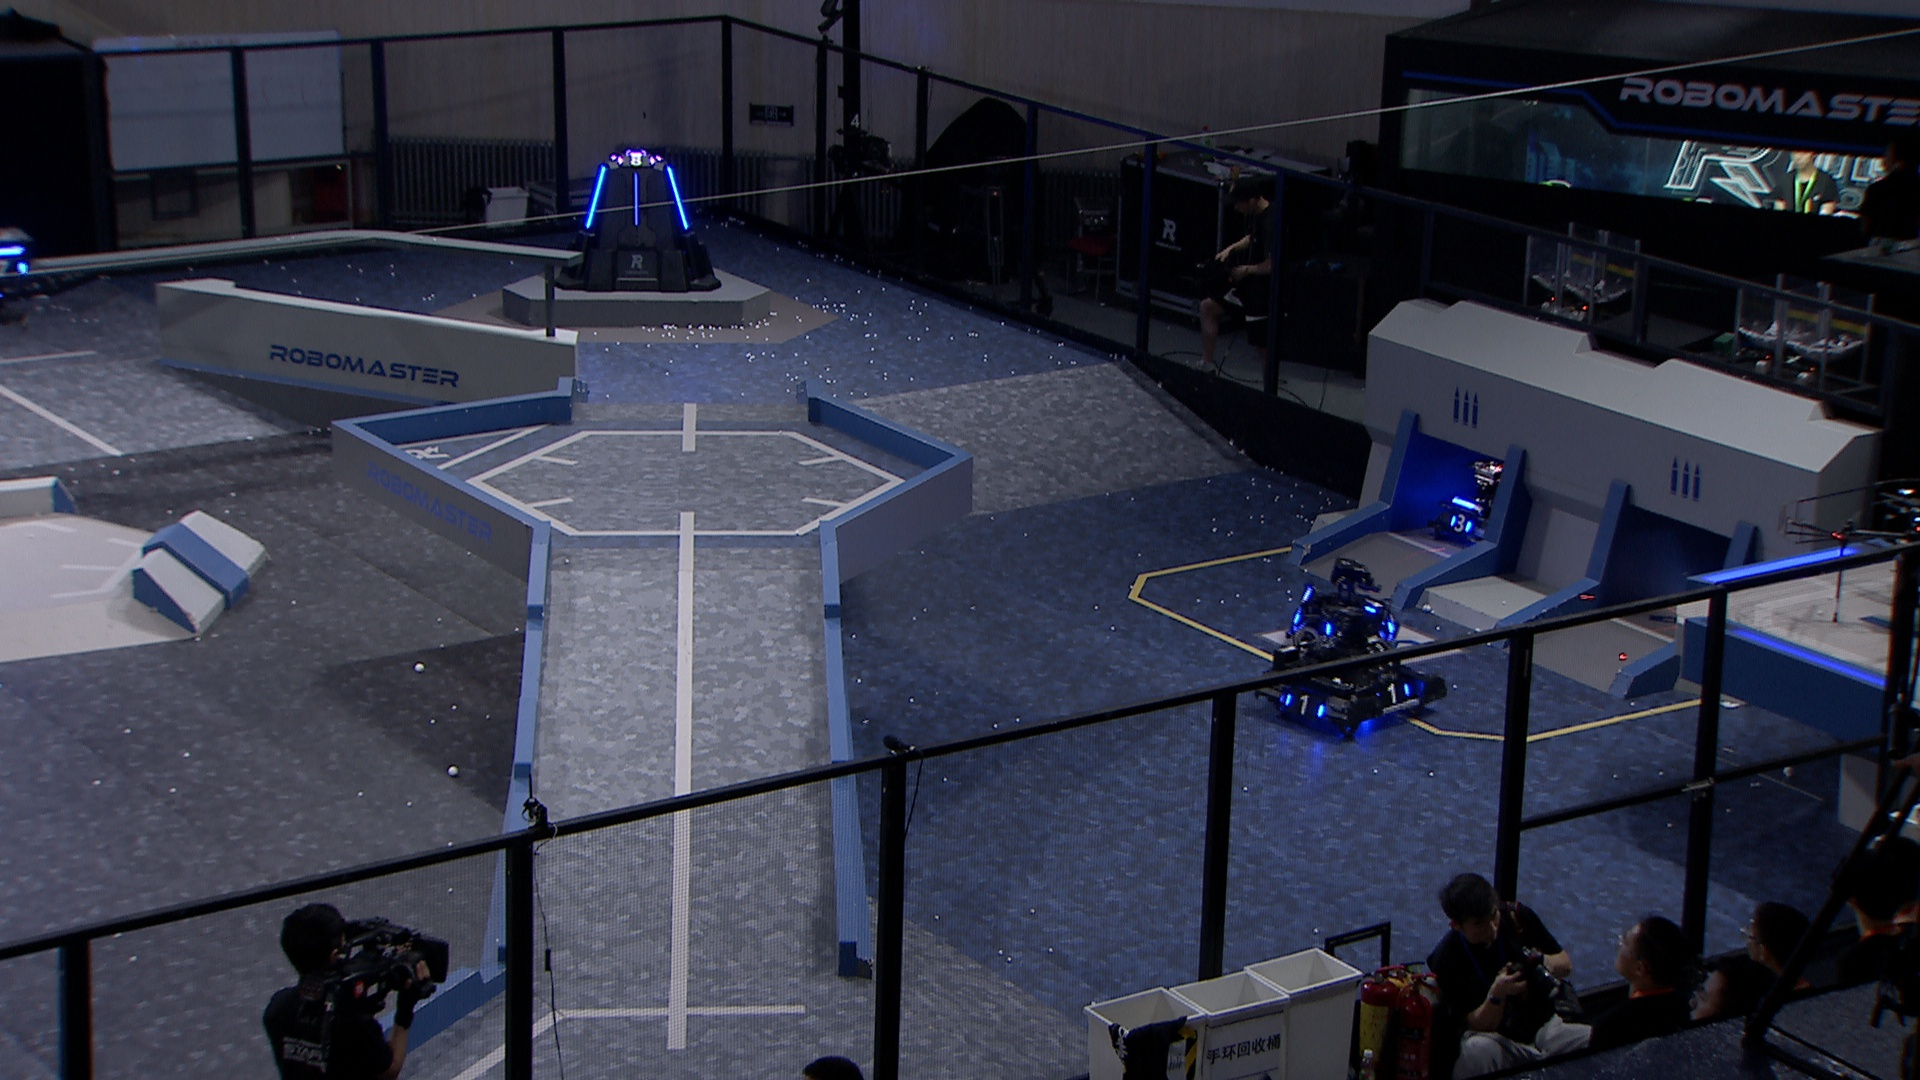armor: (665, 164, 694, 233), (582, 164, 608, 229), (1282, 694, 1329, 717), (1377, 680, 1411, 705), (633, 174, 644, 229), (1447, 513, 1472, 534), (1360, 597, 1385, 615), (1385, 613, 1400, 636)
base: (550, 142, 721, 294)
car: (1255, 607, 1443, 738), (1284, 559, 1408, 654), (1429, 458, 1524, 543)
ignore: (611, 153, 662, 171)
